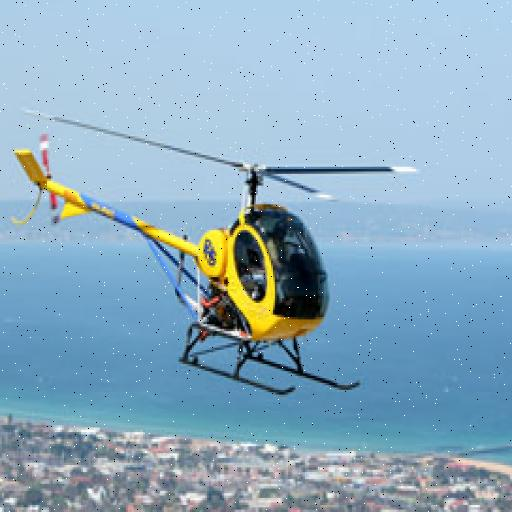helicopter: (9, 107, 423, 400)
